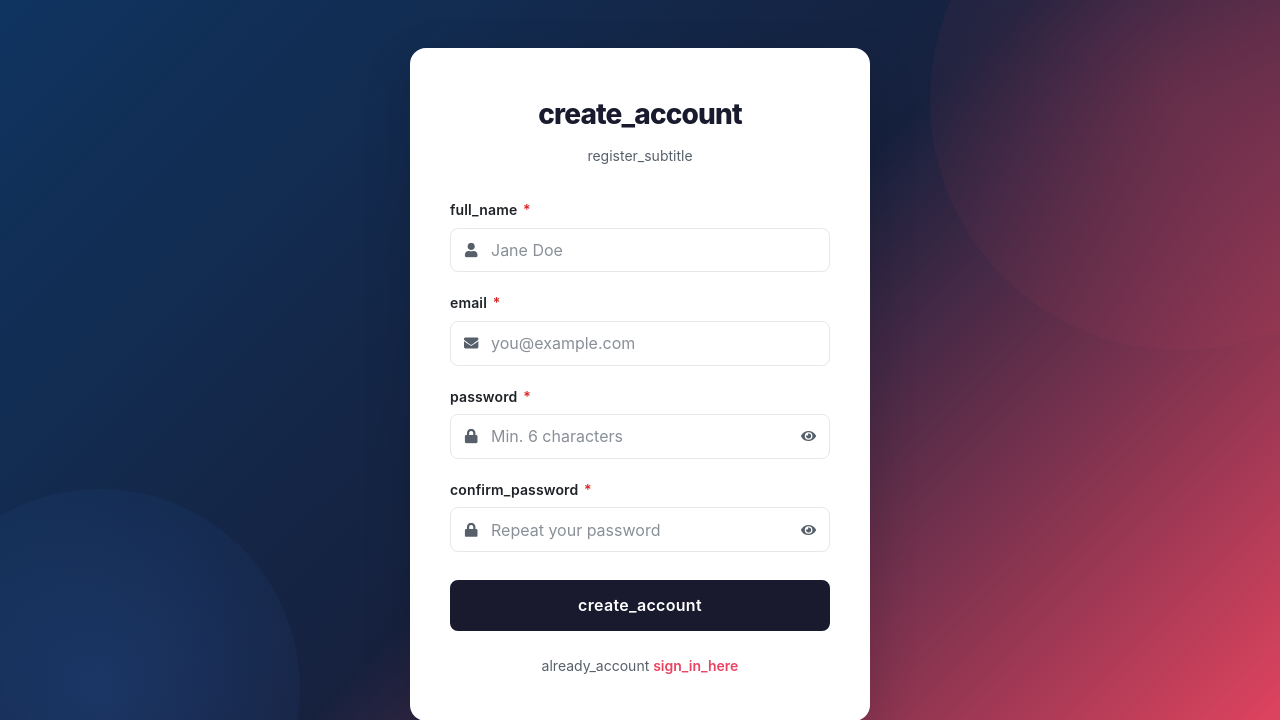
Test: Register page › field validation › shows name_required when name is left empty
The width and height of the screenshot is (1280, 720).
Click the field labelled "full_name *".
click(640, 250)  # box [450,228,830,272]
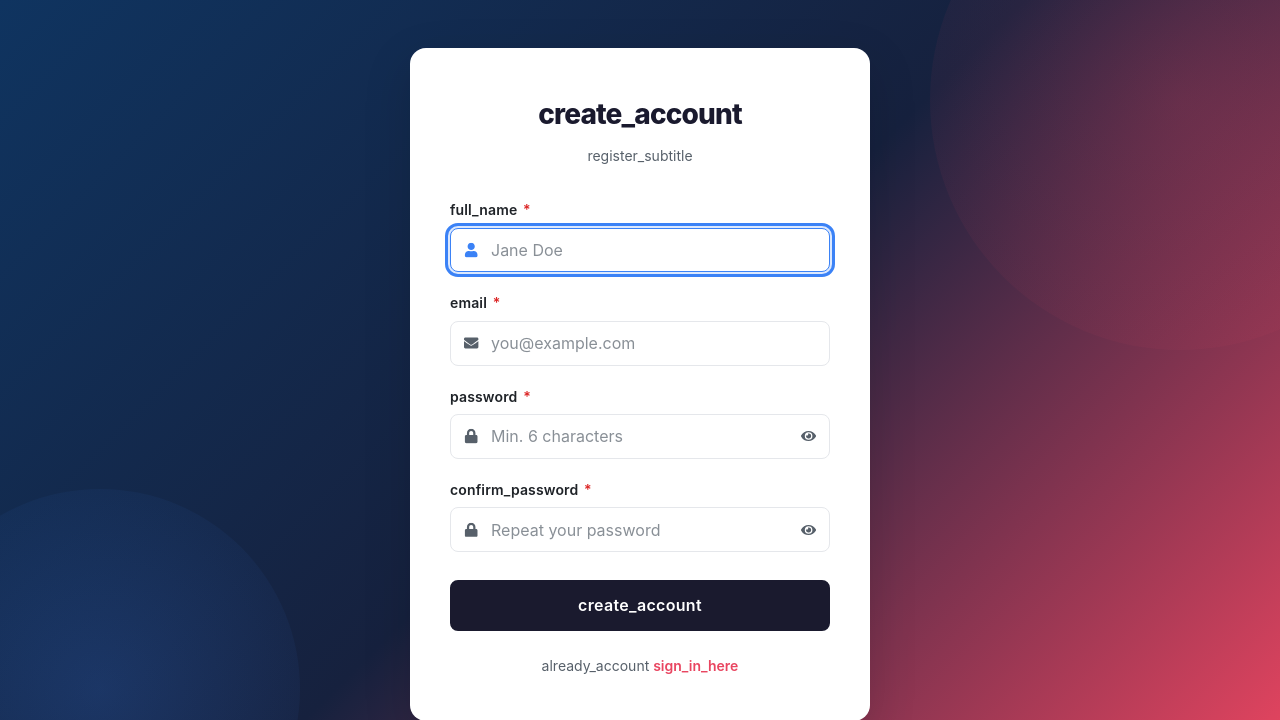
Press Tab
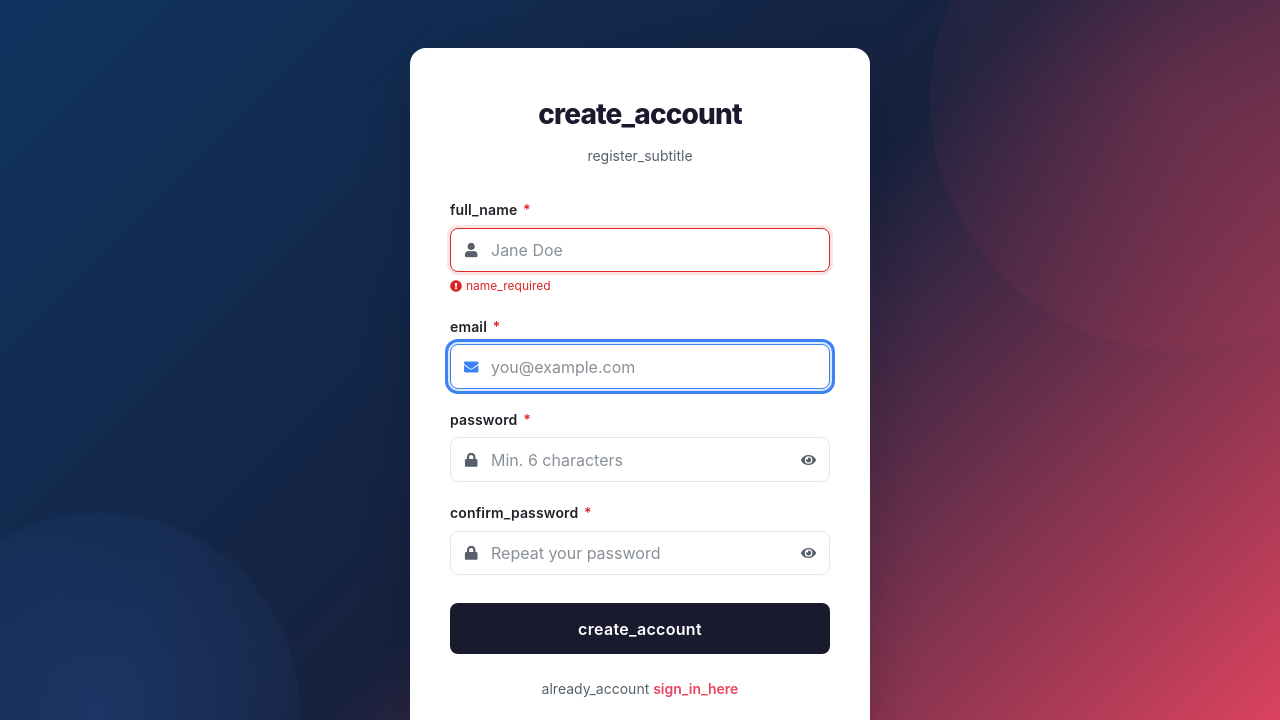
Result: the message "name_required" is shown at [450,278,550,293]
